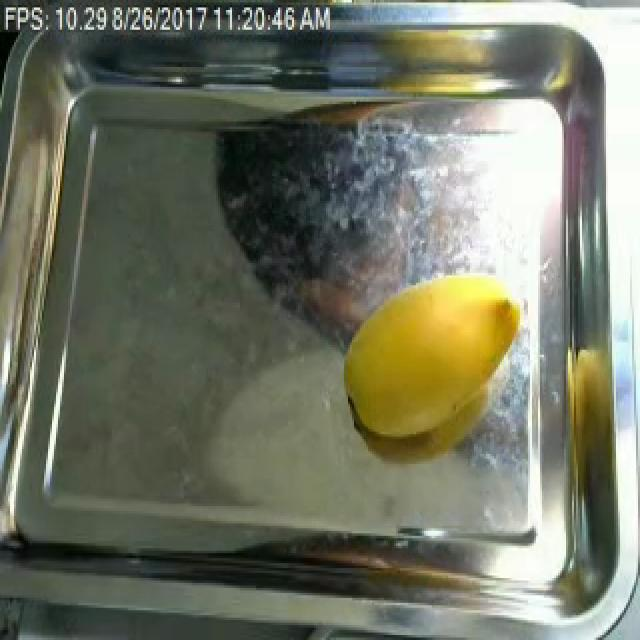fruit: (330, 270, 530, 454)
